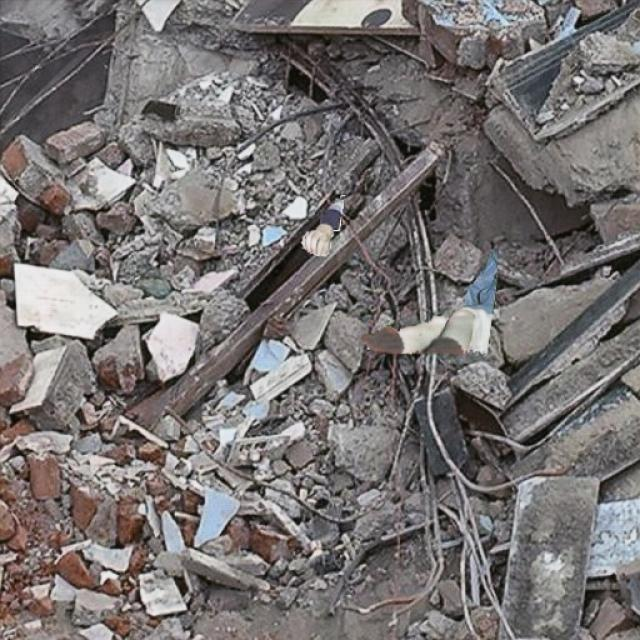Person in Rubble: (302, 195, 496, 353)
